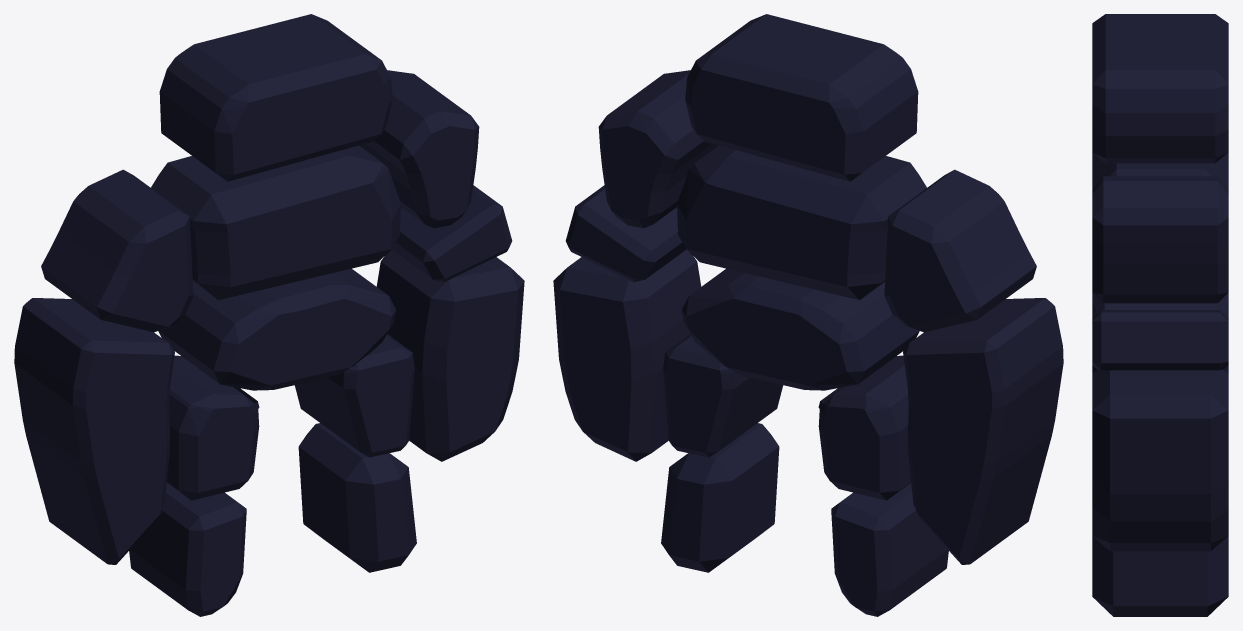
File: stoneGolem.obj
3 views of the same model, side by side, from view 1: azimuth 30°, elevation 25°; view 2: azimuth 150°, elevation 25°; view 3: azimuth 270°, elevation 25° (orthographic).
Visible parts, largest first — view 1: 立方体.013, 立方体.007, 立方体.006, 立方体.010, 立方体.005, 立方体.011, 立方体.003, 立方体.008, 立方体.001, 立方体.002, 立方体.004, 立方体.009; view 2: 立方体.013, 立方体.007, 立方体.006, 立方体.010, 立方体.005, 立方体.011, 立方体.003, 立方体.008, 立方体.001, 立方体.002, 立方体.004, 立方体.009; view 3: 立方体.010, 立方体.007, 立方体.008, 立方体.003, 立方体.009, 立方体.006, 立方体.005.
Boxes of the visible parts, box(x1,y1,x2,y2) form: 立方体.013: box(14, 298, 174, 564); 立方体.007: box(159, 14, 392, 181); 立方体.006: box(151, 145, 400, 300); 立方体.010: box(376, 249, 524, 461); 立方体.005: box(158, 268, 396, 390); 立方体.011: box(41, 169, 193, 332); 立方体.003: box(298, 423, 416, 572); 立方体.008: box(359, 70, 479, 228); 立方体.001: box(129, 483, 246, 616); 立方体.002: box(166, 355, 259, 500); 立方体.004: box(294, 334, 414, 457); 立方体.009: box(391, 185, 512, 282); 立方体.013: box(903, 298, 1063, 564); 立方体.007: box(685, 14, 918, 181); 立方体.006: box(677, 145, 926, 300); 立方体.010: box(553, 249, 701, 461); 立方体.005: box(681, 268, 919, 390); 立方体.011: box(884, 169, 1036, 332); 立方体.003: box(661, 423, 779, 572); 立方体.008: box(598, 70, 718, 228); 立方体.001: box(831, 483, 948, 616); 立方体.002: box(818, 355, 911, 500); 立方体.004: box(663, 334, 783, 457); 立方体.009: box(565, 185, 686, 282); 立方体.010: box(1092, 369, 1228, 551); 立方体.007: box(1092, 14, 1228, 163); 立方体.008: box(1092, 176, 1228, 303); 立方体.003: box(1092, 536, 1228, 616); 立方体.009: box(1092, 310, 1228, 370); 立方体.006: box(1092, 153, 1228, 188); 立方体.005: box(1092, 293, 1228, 369).
Size of the model in its own units: 2.83 by 3.11 by 0.7296.
1 material, 1 textured.
